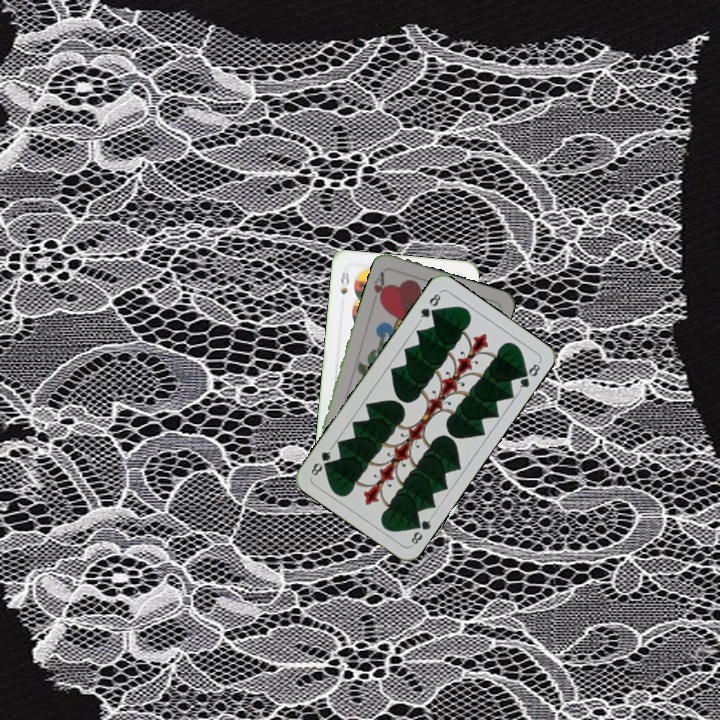G8: (406, 512, 435, 548), (416, 288, 443, 324)
HA: (369, 268, 390, 307)
S8: (336, 268, 352, 297)
